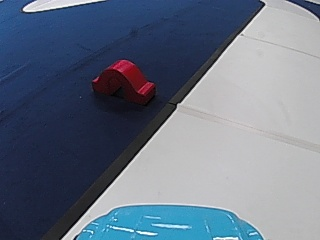bridge: (89, 56, 159, 107)
